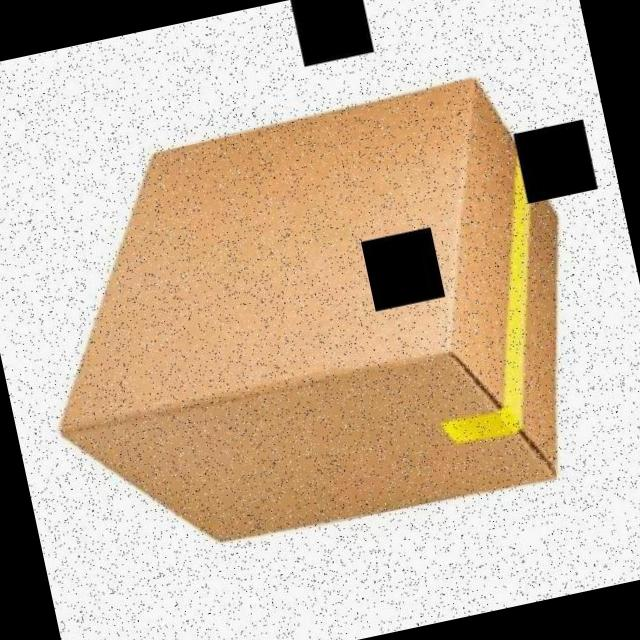box: (6, 57, 622, 584)
